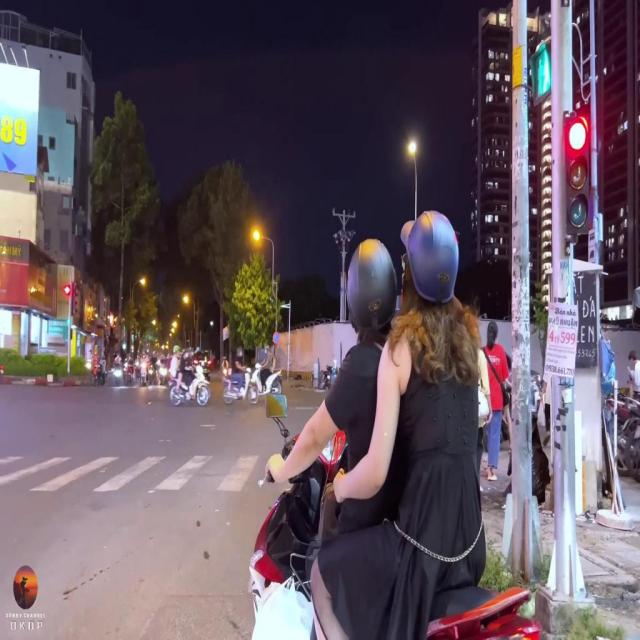cam_do_xe: (272, 330, 280, 345)
